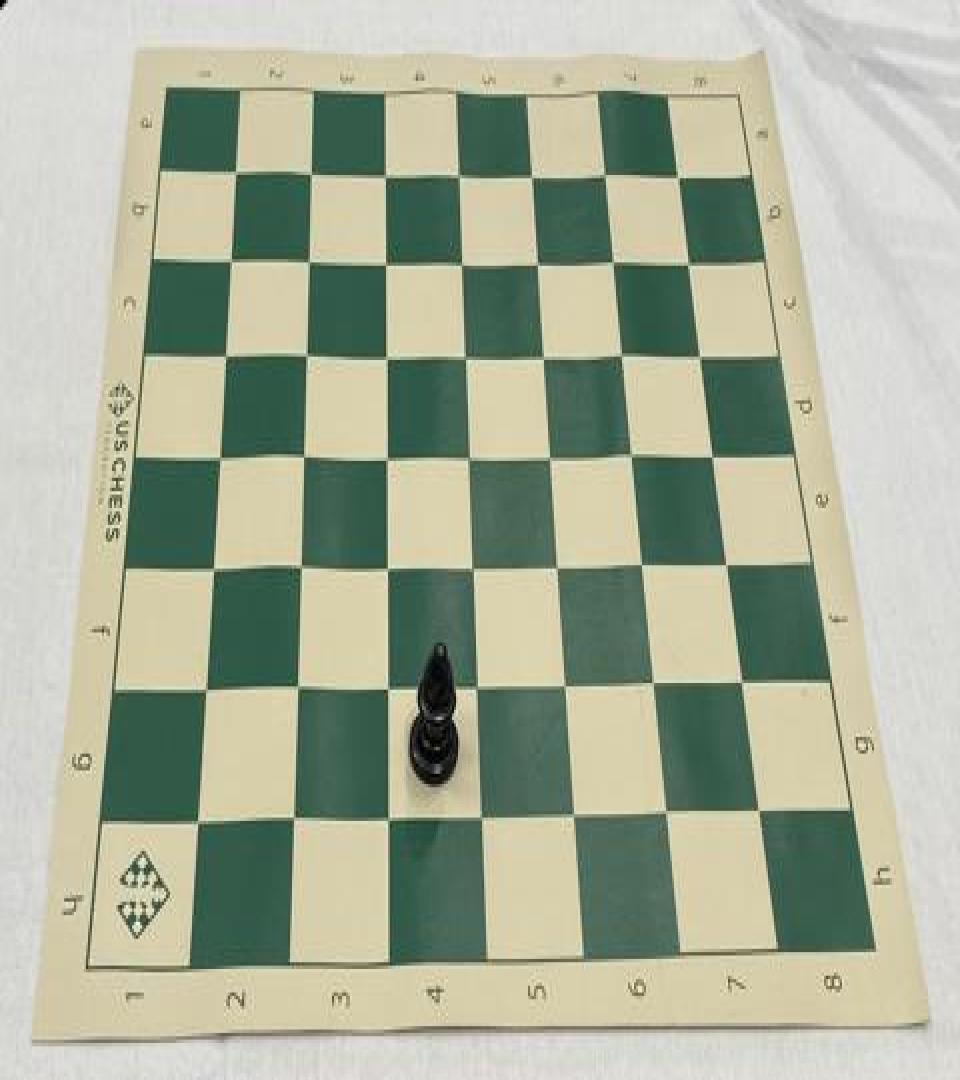xcorner: (678, 240, 700, 278), (602, 240, 624, 278), (526, 240, 548, 278), (201, 546, 223, 584), (376, 664, 398, 702), (666, 155, 688, 192), (593, 153, 615, 190), (520, 153, 542, 190), (447, 153, 469, 190), (373, 153, 395, 190), (450, 239, 472, 276), (373, 239, 395, 276), (296, 239, 318, 276), (218, 239, 240, 276), (690, 333, 712, 370), (612, 333, 634, 370), (533, 333, 555, 370), (454, 333, 476, 370), (374, 333, 396, 370), (294, 333, 316, 370), (213, 333, 235, 370), (704, 434, 726, 471), (622, 434, 644, 471), (540, 434, 562, 471), (458, 434, 480, 471), (375, 434, 397, 471), (375, 545, 397, 582), (288, 545, 310, 582), (645, 661, 667, 698), (556, 663, 578, 700), (467, 663, 489, 700), (285, 666, 307, 703), (194, 668, 216, 705), (751, 789, 773, 826), (659, 791, 681, 828), (566, 792, 588, 829), (472, 794, 494, 831), (186, 799, 208, 836), (298, 152, 320, 188), (223, 152, 245, 188), (291, 436, 313, 472), (207, 436, 229, 472), (718, 542, 740, 578), (633, 544, 655, 580), (548, 544, 570, 580), (462, 544, 484, 580), (734, 660, 756, 696), (377, 796, 399, 832), (282, 798, 304, 834)
